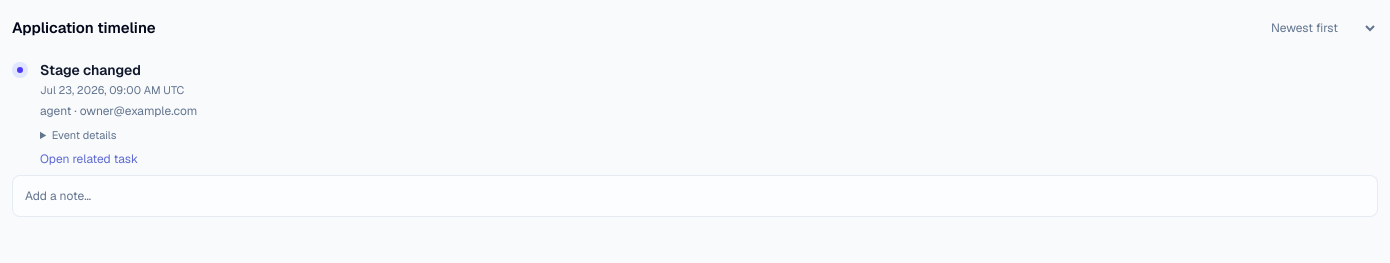
Test: ApplicationTimeline › discloses audit timestamps and links related tasks without exposing internal metadata
The image size is (1390, 263).
Expected: the heading "Stage changed" is shown, top-left (40, 61), bottom-right (141, 79)
Expected: the text "agent · owner@example.com" is shown, top-left (40, 102), bottom-right (197, 118)
Click the heading "Event details" at {"x": 84, "y": 134}, box top-left (52, 128), bottom-right (116, 142)
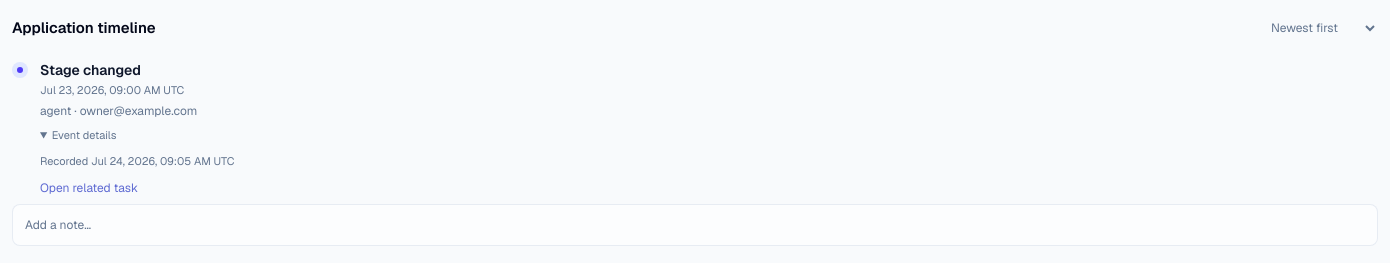
Result: the text "Recorded Jul 24, 2026, 09:05 AM UTC" is shown at top-left (40, 154), bottom-right (234, 168)
